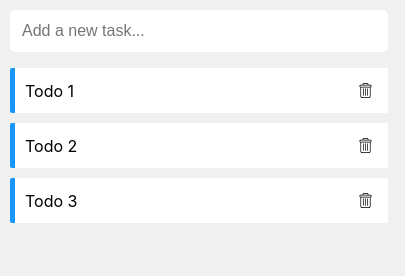
Test: App component › When a todo is deleted › an error is displayed if the call to the server fails
The width and height of the screenshot is (405, 276).
Click the button without text in the row of "Todo 1".
click(366, 90)  # box [353,78,378,103]
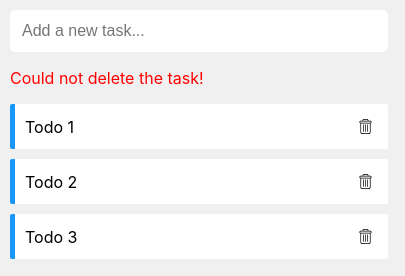
expect the message shows "delete": met, box [10,68,204,88]
